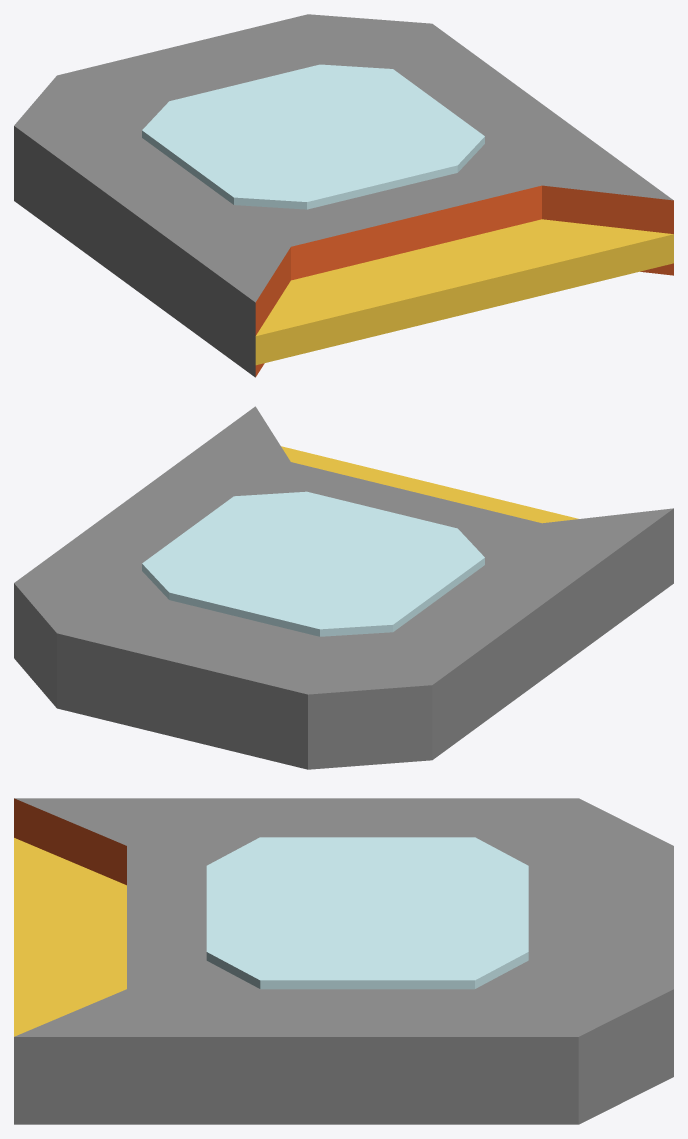
The model's file is Upgrade_Oxygen_01.fbx.
3 renders of one model, top to bottom at view 1: azimuth 30°, elevation 25°; view 2: azimuth 150°, elevation 25°; view 3: azimuth 270°, elevation 25°, orthographic. The views are drawn at different scales.
Parts seen in each view (by area): view 1: Cube.001; view 2: Cube.001; view 3: Cube.001.
Boxes of the visible parts, left/top/right/bottom form: Cube.001: left=14, top=14, right=673, bottom=377; Cube.001: left=14, top=406, right=673, bottom=769; Cube.001: left=14, top=798, right=673, bottom=1124.
Size of the model in its own units: 86.17 by 17.74 by 101.
